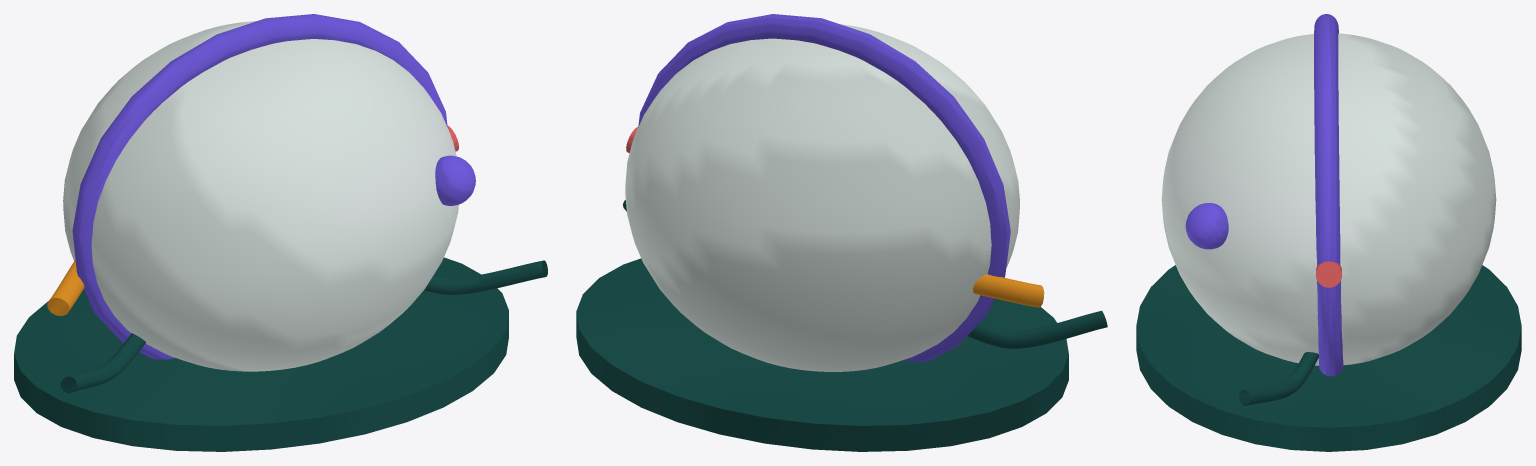
File: 1227_细胞图鉴_细胞壁.glb
3 views of the same model, side by side, from view 1: azimuth 30°, elevation 25°; view 2: azimuth 150°, elevation 25°; view 3: azimuth 270°, elevation 25° (orthographic). The views are drawn at different scales.
Visible parts, largest first — view 1: card_1227; view 2: card_1227; view 3: card_1227.
Part boxes in pixels (x1,y1,x2,y2): card_1227: (14, 14, 547, 451); card_1227: (576, 14, 1107, 451); card_1227: (1136, 14, 1521, 451).
Size of the model in its own units: 1.46 by 1 by 1.08.
